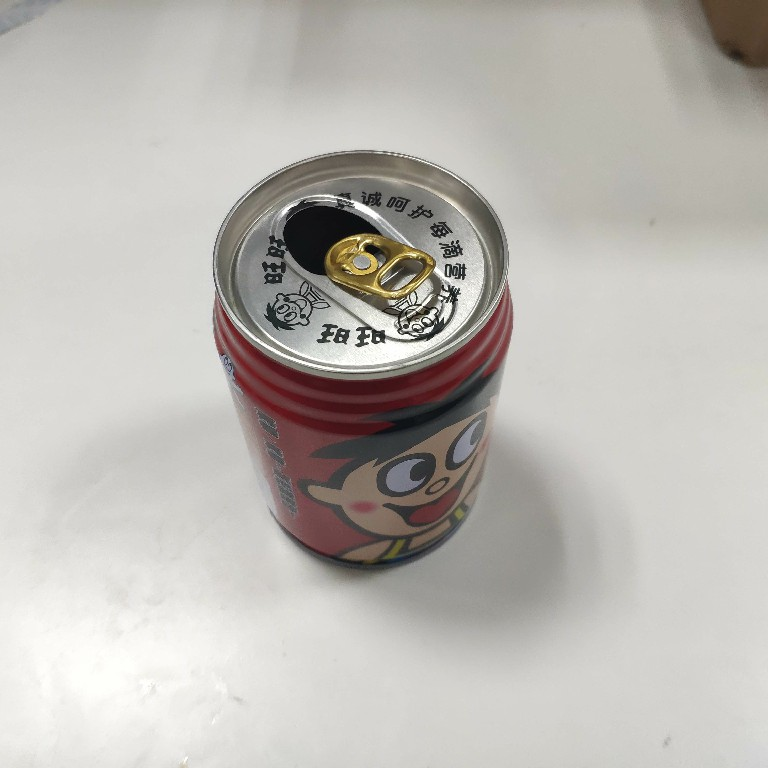can: (205, 145, 521, 573)
